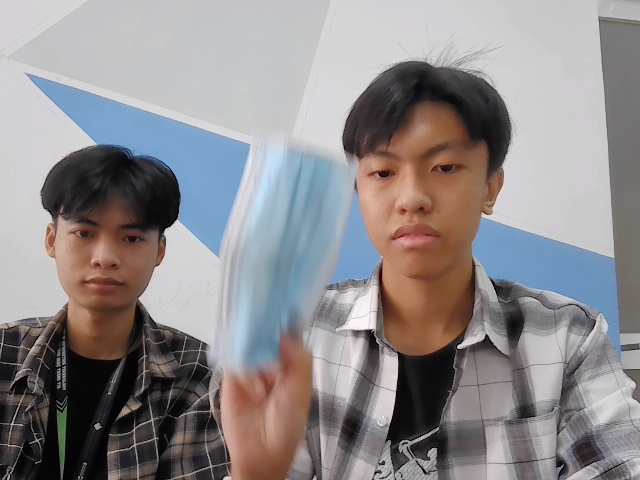human: (345, 59, 506, 284), (41, 137, 183, 313)
mask: (215, 136, 349, 375)
